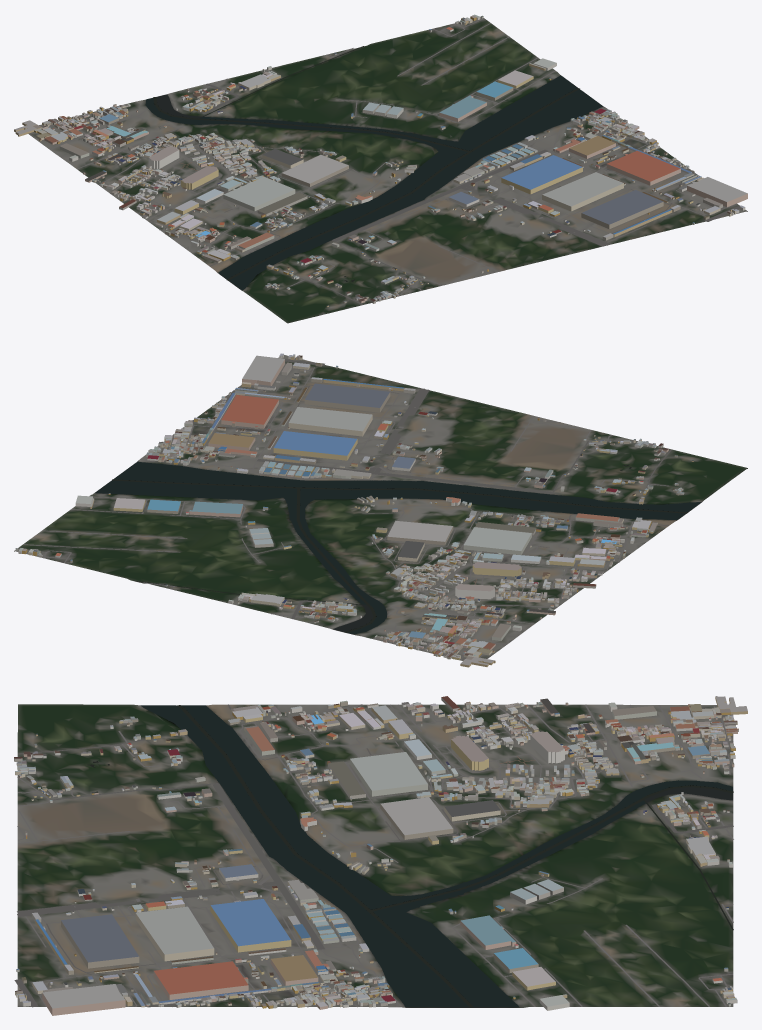
3 views of the same model, one above another, from view 1: azimuth 30°, elevation 25°; view 2: azimuth 150°, elevation 25°; view 3: azimuth 270°, elevation 25° (orthographic). The views are drawn at different scales.
Parts seen in each view (by area): view 1: ground, buildings, water, roads; view 2: ground, buildings, water, roads; view 3: ground, buildings, water, roads.
Part boxes in pixels (<box>): ground: <box>28,17,747,323</box>; buildings: <box>14,14,747,306</box>; water: <box>145,46,602,290</box>; roads: <box>29,18,739,304</box>; ground: <box>14,355,747,660</box>; buildings: <box>15,353,693,667</box>; water: <box>95,461,701,634</box>; roads: <box>18,359,671,660</box>; ground: <box>17,704,733,1007</box>; buildings: <box>14,696,747,1015</box>; water: <box>87,705,733,1007</box>; roads: <box>14,704,733,1007</box>.
Bounding box in the file's own units: 1470 × 28.34 × 1436.
